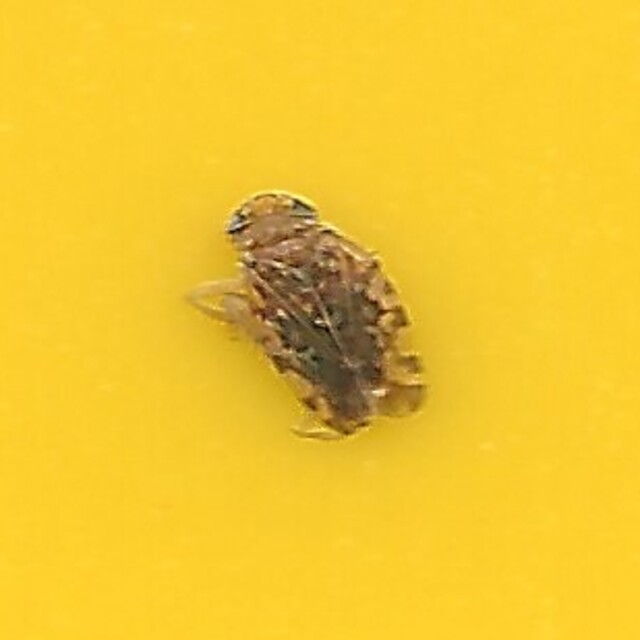Hemiptera: (207, 189, 433, 451)
